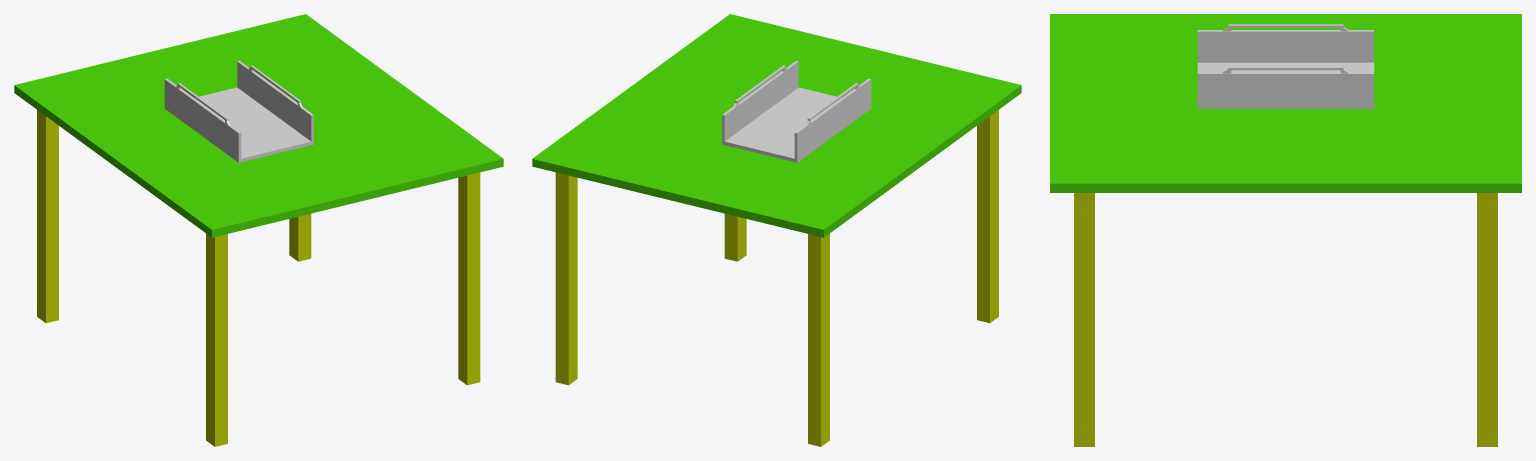
Rendered from turbina_mesa.fbx.
3 renders of one model, left to right at view 1: azimuth 30°, elevation 25°; view 2: azimuth 150°, elevation 25°; view 3: azimuth 270°, elevation 25°, orthographic. The views are drawn at different scales.
Parts seen in each view (by area): view 1: mesa, soporte; view 2: mesa, soporte; view 3: mesa, soporte.
Part boxes in pixels (x1,y1,x2,y2): mesa: (14,14,503,446); soporte: (164,61,313,162); mesa: (532,14,1021,446); soporte: (722,61,871,162); mesa: (1050,14,1521,446); soporte: (1197,24,1374,108).
Size of the model in its own units: 0.8563 by 0.7353 by 1.01.
